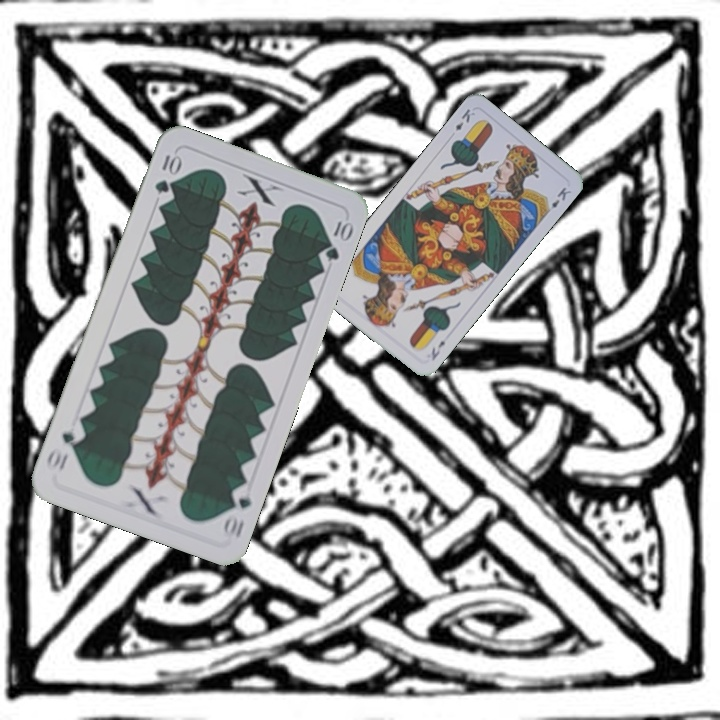EK: (427, 331, 453, 363), (451, 104, 477, 133)
G10: (218, 481, 254, 541), (150, 149, 183, 196)
